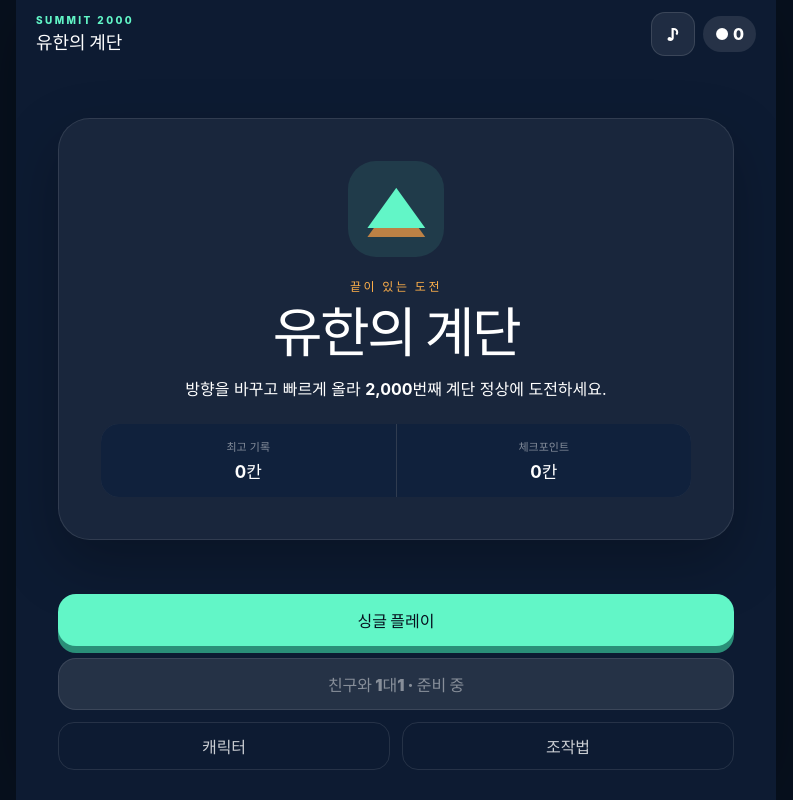
opens the playable single-player screen from the home menu
Click the button "싱글 플레이".
click(396, 620)  # box 58,594 -> 734,646
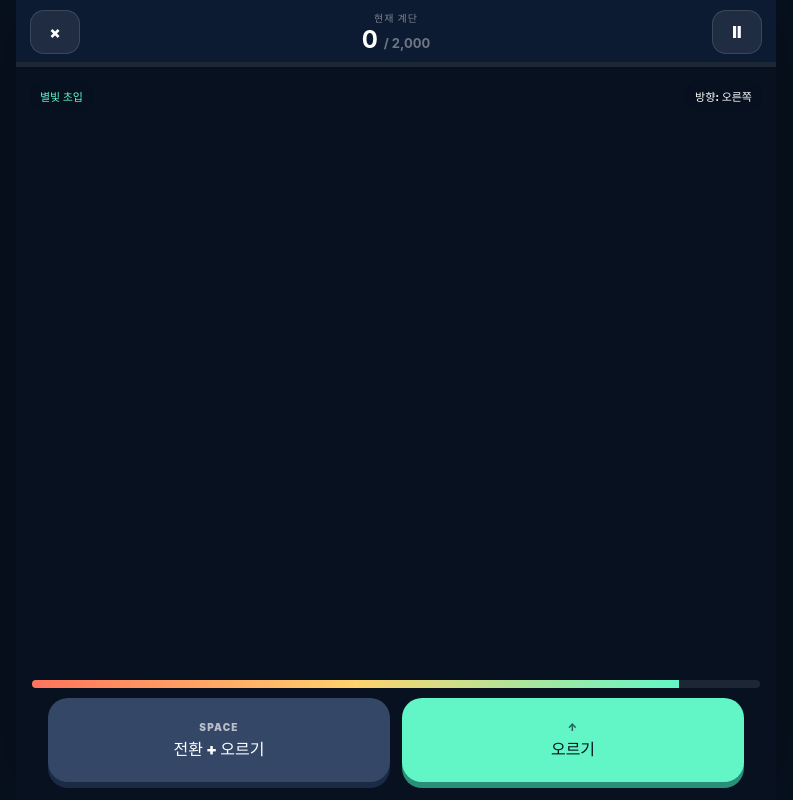
expect the element named "싱글 플레이" is shown: met
expect the text "/ 2,000" is shown: met, box 384,35 -> 430,51
expect the button "SPACE 전환 + 오르기" is shown: met, box 48,698 -> 390,782
